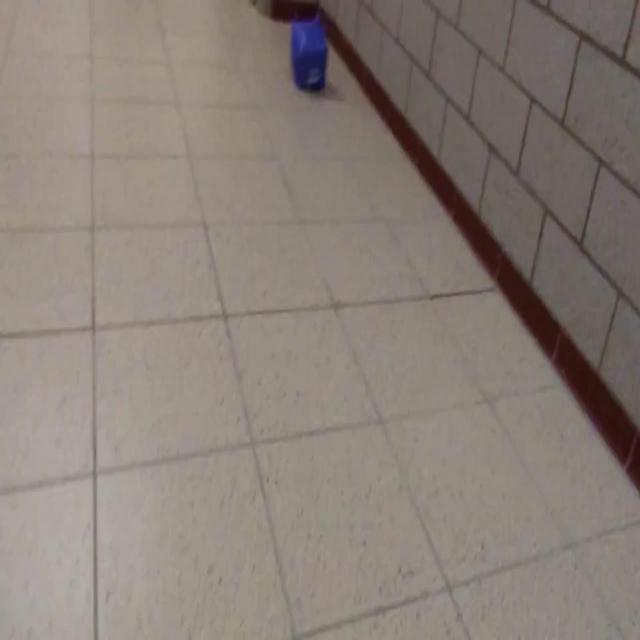frc_cube: (290, 16, 328, 93)
